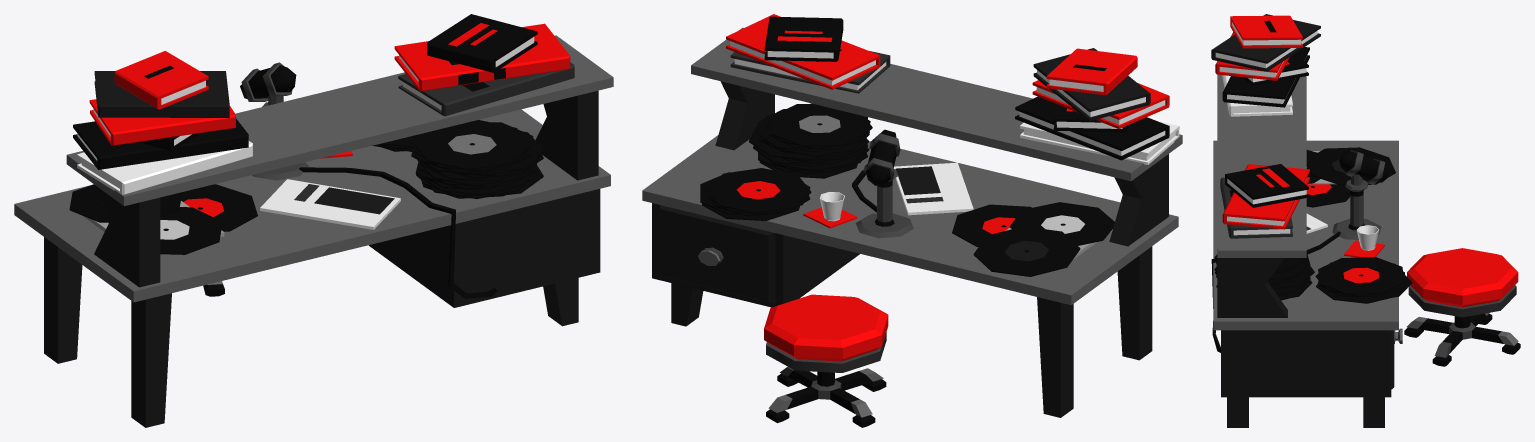
The model's file is RadioDesk.FBX.
The picture shows the model from 3 angles, left to right: view 1: azimuth 30°, elevation 25°; view 2: azimuth 150°, elevation 25°; view 3: azimuth 270°, elevation 25°; orthographic projection. The views are drawn at different scales.
Parts seen in each view (by area): view 1: Box041; view 2: Box041; view 3: Box041.
Boxes of the visible parts, left/top/right/bottom form: Box041: left=14, top=14, right=613, bottom=427; Box041: left=642, top=14, right=1182, bottom=427; Box041: left=1211, top=14, right=1520, bottom=427.
Bounding box in the file's own units: 338 × 214 × 236.
